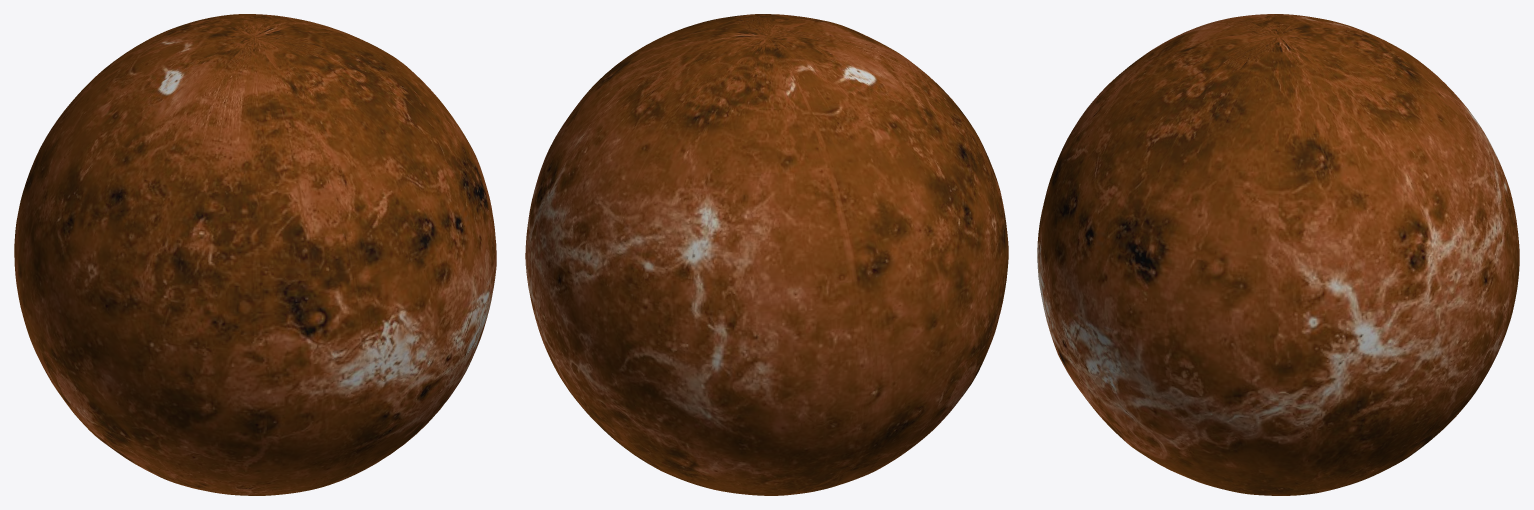
Rendered from generic_planet.glb.
The picture shows the model from 3 angles, left to right: view 1: azimuth 30°, elevation 25°; view 2: azimuth 150°, elevation 25°; view 3: azimuth 270°, elevation 25°; orthographic projection.
Parts seen in each view (by area): view 1: Landscape; view 2: Landscape; view 3: Landscape.
Boxes of the visible parts, <box> form: Landscape: <box>14,14,496,495</box>; Landscape: <box>525,14,1008,495</box>; Landscape: <box>1037,14,1519,495</box>.
Size of the model in its own units: 2.09 by 2.08 by 2.09.
Materials: 1 (1 with a texture image).
